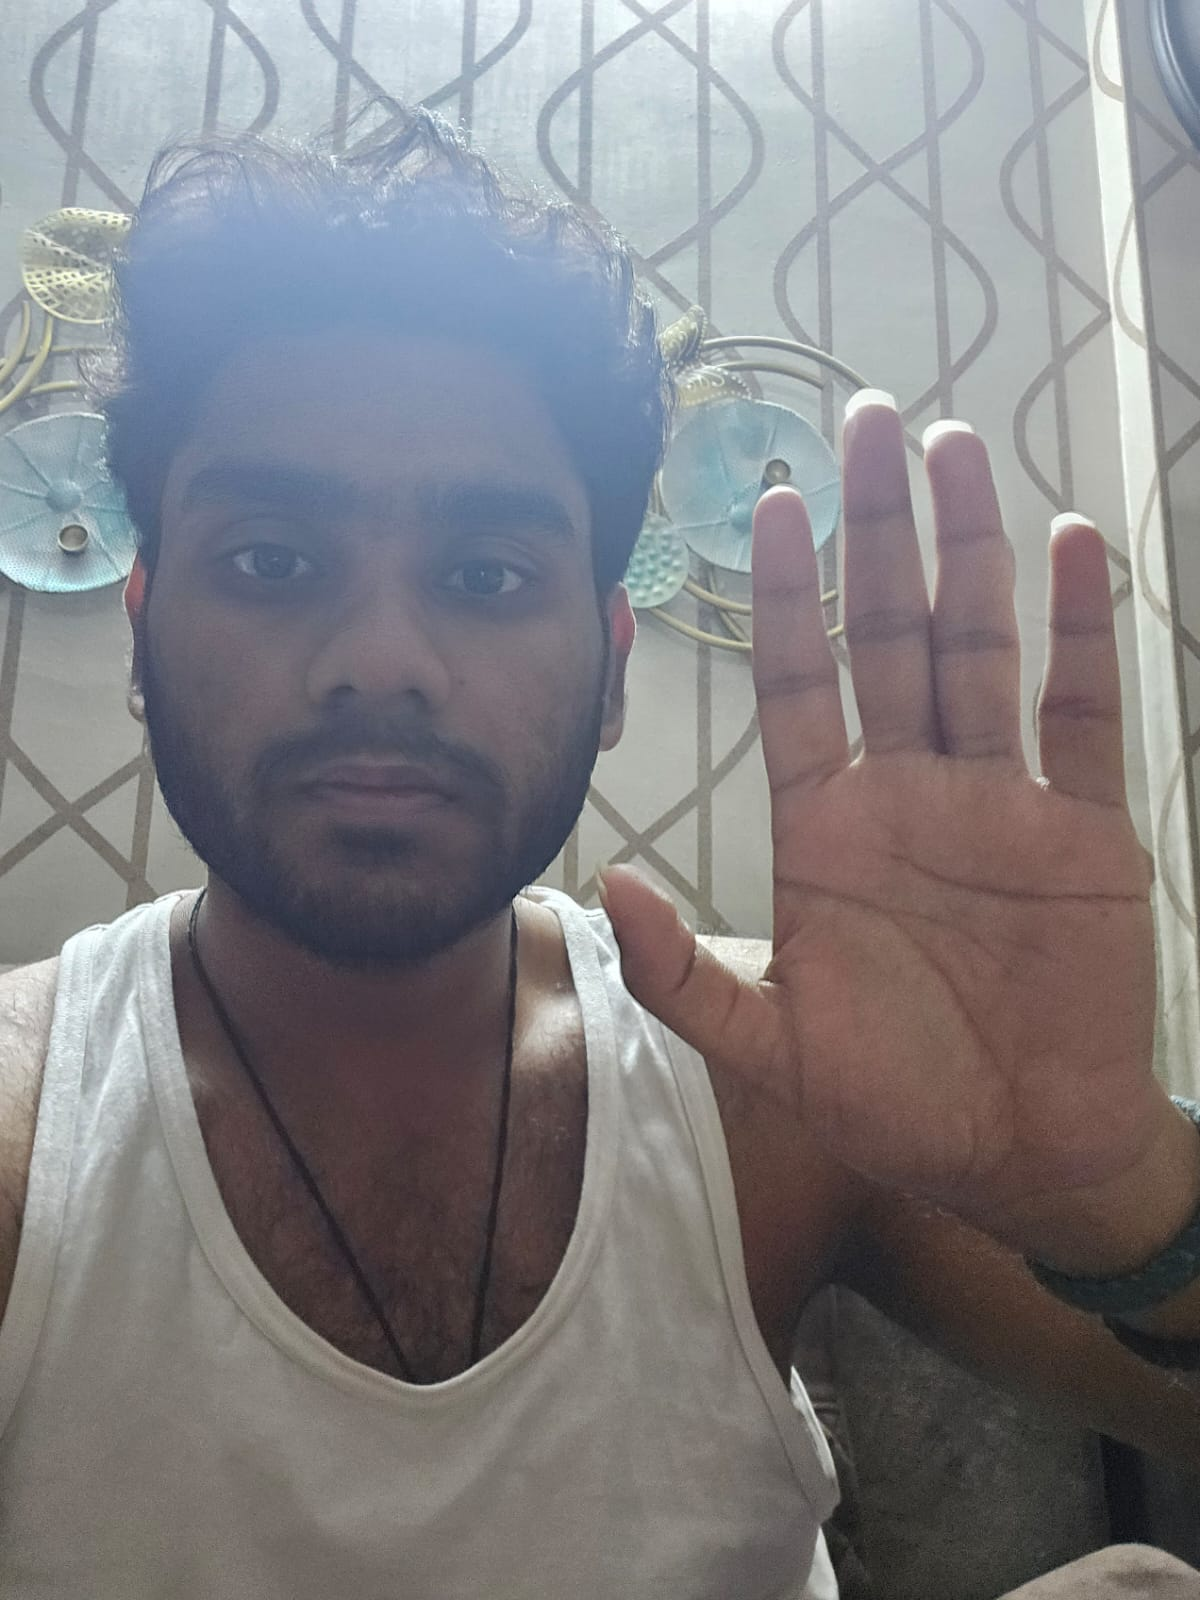hello: (597, 386, 1150, 1208)
